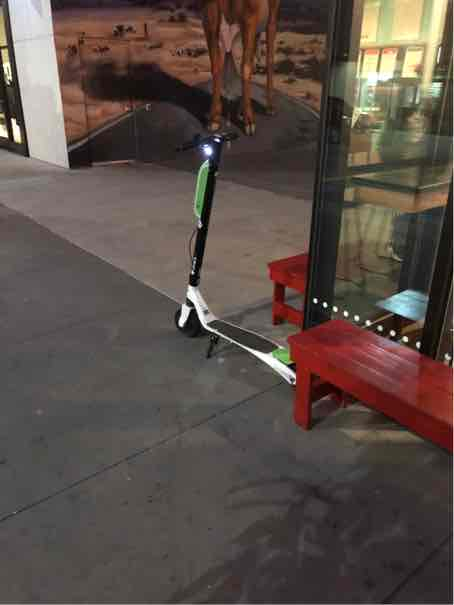scooter: (156, 120, 346, 426)
